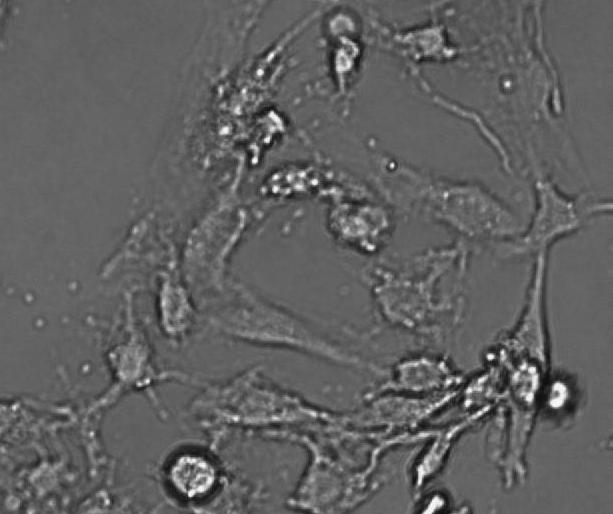Dead: (158, 438, 225, 506), (535, 366, 589, 429), (320, 3, 363, 40), (415, 485, 459, 514), (332, 47, 356, 78), (339, 32, 364, 61)
